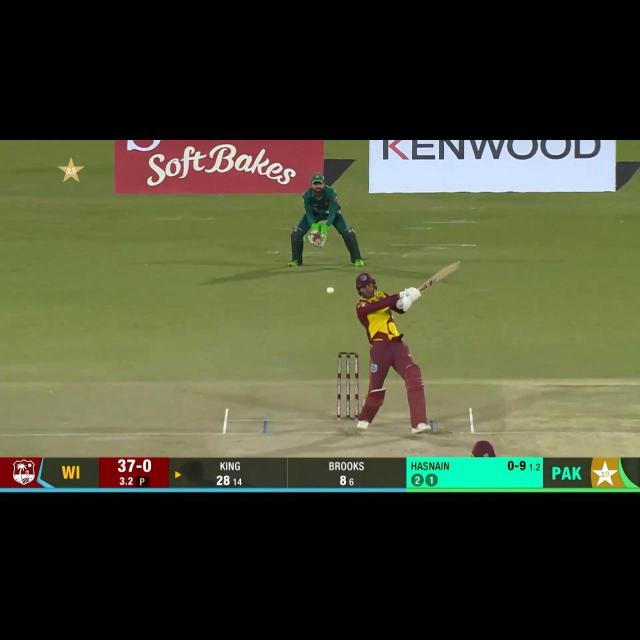bat: (419, 257, 463, 292)
toe: (452, 260, 461, 270)
